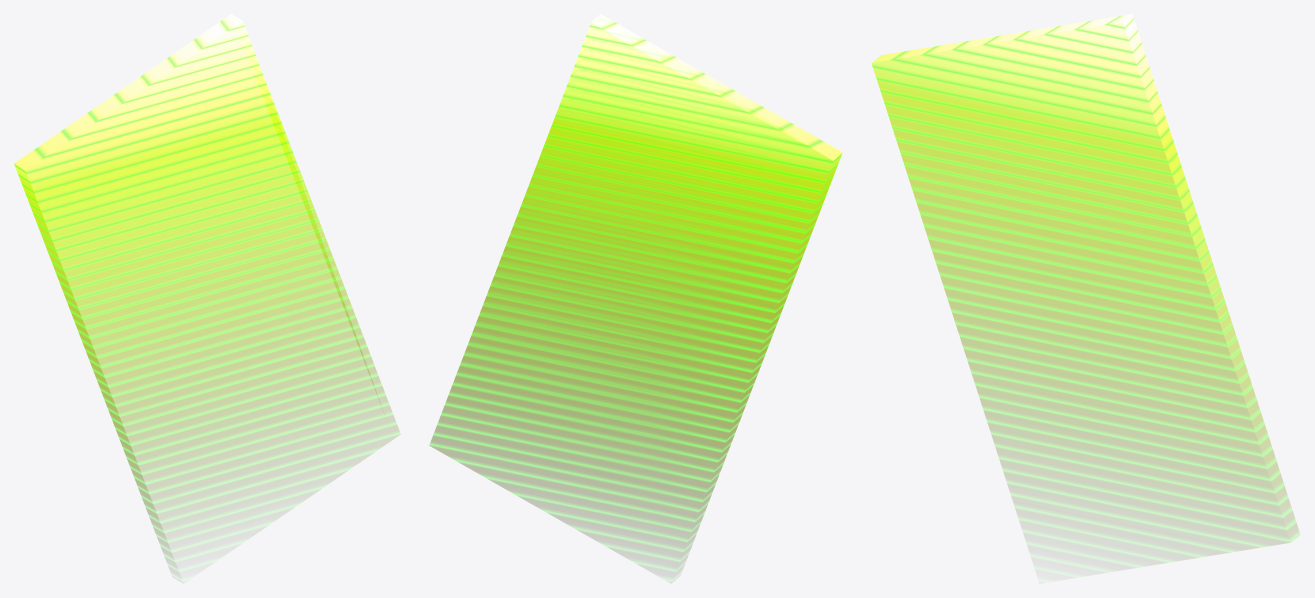
File: Card 3.glb
3 renders of one model, left to right at view 1: azimuth 30°, elevation 25°; view 2: azimuth 150°, elevation 25°; view 3: azimuth 330°, elevation 25°, orthographic. The views are drawn at different scales.
Visible parts, largest first — view 1: Card 3; view 2: Card 3; view 3: Card 3.
Part boxes in pixels (box(x1,y1,x2,y2)): Card 3: box(14, 14, 400, 571); Card 3: box(429, 14, 842, 572); Card 3: box(871, 14, 1299, 557).
Size of what is drawn, in the model's own units: 0.6951 by 0.9275 by 0.0629.
1 material, 1 textured.
